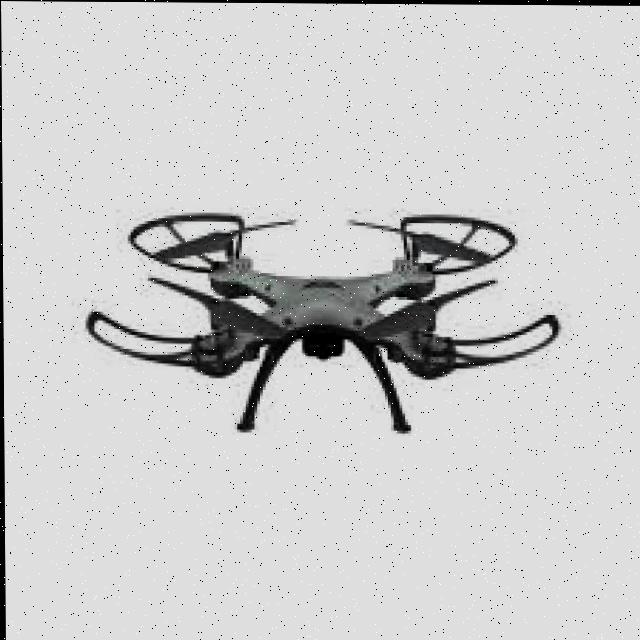drone: (74, 182, 574, 467)
